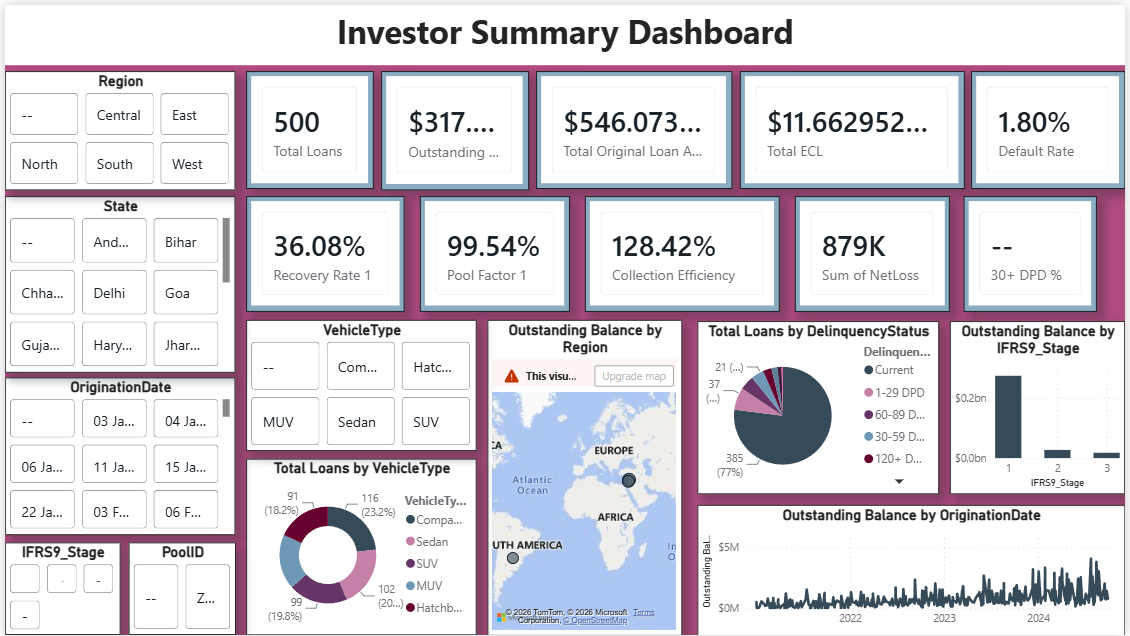

This screenshot's page, from the dashboard's own definition file:
{"tool":"powerbi","page":{"name":"Investor Summary","canvas":[1280,720],"ordinal":4},"visuals":[{"type":"textbox","box":[0,0,1280.3,68.6],"z":0},{"type":"cardVisual","fields":{"Data":["AutoLoan.Total Loans"]},"box":[275.8,75.5,145.5,134.5],"z":1000},{"type":"cardVisual","fields":{"Data":["AutoLoan.Outstanding Balance"]},"box":[429.8,75.5,168.8,135.8],"z":2000},{"type":"cardVisual","fields":{"Data":["AutoLoan.Total Original Loan Amount"]},"box":[607.2,75.5,223.7,134.5],"z":3000},{"type":"cardVisual","fields":{"Data":["AutoLoan.Total ECL"]},"box":[839.5,75.5,256.6,134.5],"z":4000},{"type":"cardVisual","fields":{"Data":["AutoLoan.Default Rate"]},"box":[1104.4,75.5,175.6,134.5],"z":5000},{"type":"cardVisual","fields":{"Data":["DynamicLoss.Recovery Rate 1"]},"box":[275.8,218.2,181.1,131.7],"z":6000},{"type":"cardVisual","fields":{"Data":["StaticPool.Pool Factor 1"]},"box":[474.1,218.2,171.5,131.7],"z":7000},{"type":"cardVisual","fields":{"Data":["DynamicLoss.Collection Efficiency"]},"box":[662.8,218.2,222.3,131.7],"z":8000},{"type":"cardVisual","fields":{"Data":["Sum(AutoLoan.NetLoss)"]},"box":[902.2,218.2,177,131.7],"z":9000},{"type":"cardVisual","fields":{"Data":["DPDSnapshot.30+ DPD %"]},"box":[1096.4,218.2,152.3,131.7],"z":10000},{"type":"map","fields":{"Category":["AutoLoan.Region"],"Size":["AutoLoan.Outstanding Balance"]},"box":[551.6,359.5,222.3,360.9],"z":11000},{"type":"donutChart","fields":{"Category":["AutoLoan.VehicleType"],"Y":["AutoLoan.Total Loans"]},"box":[275.8,518.7,263.5,201.7],"z":12000},{"type":"pieChart","fields":{"Category":["AutoLoan.DelinquencyStatus"],"Y":["AutoLoan.Total Loans"]},"box":[791.8,360.9,275.8,197.6],"z":13000},{"type":"lineChart","fields":{"Category":["AutoLoan.OriginationDate"],"Y":["AutoLoan.Outstanding Balance"]},"box":[791.8,570.8,488.5,149.6],"z":14000},{"type":"columnChart","fields":{"Category":["AutoLoan.IFRS9_Stage"],"Y":["AutoLoan.Outstanding Balance"]},"box":[1079.9,360.9,200.3,197.6],"z":15000},{"type":"advancedSlicerVisual","fields":{"Values":["AutoLoan.OriginationDate"]},"box":[0,425.4,263.5,179.8],"z":16000},{"type":"advancedSlicerVisual","fields":{"Values":["AutoLoan.IFRS9_Stage"]},"box":[0,614.8,131.7,105.7],"z":17000},{"type":"advancedSlicerVisual","fields":{"Values":["AutoLoan.PoolID"]},"box":[141.3,614.8,122.1,105.7],"z":18000},{"type":"advancedSlicerVisual","fields":{"Values":["AutoLoan.VehicleType"]},"box":[275.8,359.5,263.5,149.6],"z":19000},{"type":"advancedSlicerVisual","fields":{"Values":["AutoLoan.State"]},"box":[0,218.2,263.5,201.7],"z":20000},{"type":"advancedSlicerVisual","fields":{"Values":["AutoLoan.Region"]},"box":[0,75.5,263.5,135.8],"z":21000}]}

Visuals, with their boxes in screenshot pixels (x1, y1, x2, y2), scaled from the page's 1280x720 canvas onto the 1130x636 screenshot:
textbox: BBox(0, 0, 1129, 61)
cardVisual - AutoLoan.Total Loans: BBox(243, 67, 372, 186)
cardVisual - AutoLoan.Outstanding Balance: BBox(379, 67, 528, 187)
cardVisual - AutoLoan.Total Original Loan Amount: BBox(536, 67, 734, 186)
cardVisual - AutoLoan.Total ECL: BBox(741, 67, 968, 186)
cardVisual - AutoLoan.Default Rate: BBox(975, 67, 1129, 186)
cardVisual - DynamicLoss.Recovery Rate 1: BBox(243, 193, 403, 309)
cardVisual - StaticPool.Pool Factor 1: BBox(419, 193, 570, 309)
cardVisual - DynamicLoss.Collection Efficiency: BBox(585, 193, 781, 309)
cardVisual - Sum(AutoLoan.NetLoss): BBox(796, 193, 953, 309)
cardVisual - DPDSnapshot.30+ DPD %: BBox(968, 193, 1102, 309)
map - AutoLoan.Region x AutoLoan.Outstanding Balance: BBox(487, 318, 683, 635)
donutChart - AutoLoan.VehicleType x AutoLoan.Total Loans: BBox(243, 458, 476, 635)
pieChart - AutoLoan.DelinquencyStatus x AutoLoan.Total Loans: BBox(699, 319, 942, 493)
lineChart - AutoLoan.OriginationDate x AutoLoan.Outstanding Balance: BBox(699, 504, 1129, 635)
columnChart - AutoLoan.IFRS9_Stage x AutoLoan.Outstanding Balance: BBox(953, 319, 1129, 493)
advancedSlicerVisual - AutoLoan.OriginationDate: BBox(0, 376, 233, 535)
advancedSlicerVisual - AutoLoan.IFRS9_Stage: BBox(0, 543, 116, 635)
advancedSlicerVisual - AutoLoan.PoolID: BBox(125, 543, 233, 635)
advancedSlicerVisual - AutoLoan.VehicleType: BBox(243, 318, 476, 450)
advancedSlicerVisual - AutoLoan.State: BBox(0, 193, 233, 371)
advancedSlicerVisual - AutoLoan.Region: BBox(0, 67, 233, 187)
